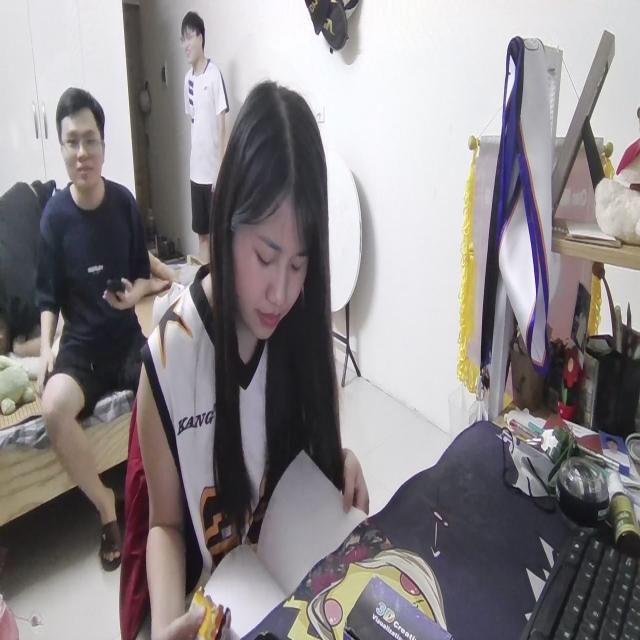book: (200, 442, 368, 624)
extra_person: (36, 89, 157, 560), (176, 11, 231, 255)
student: (136, 80, 370, 640)
